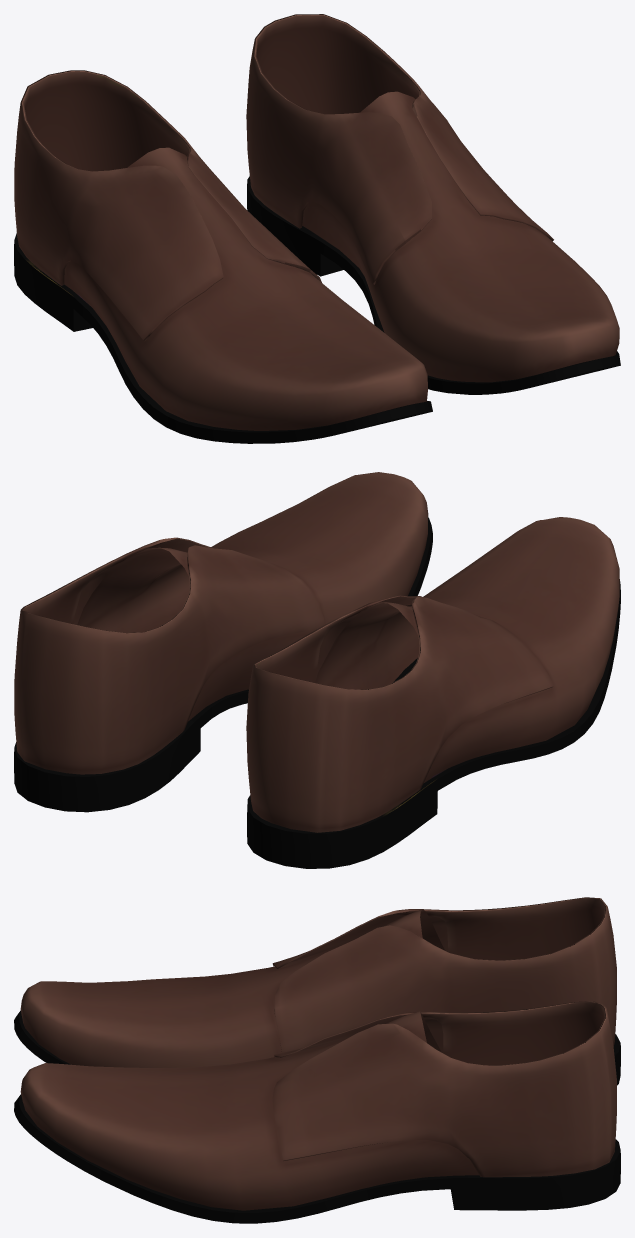
Rendered from FormalShoeM3.fbx.
3 views of the same model, one above another, from view 1: azimuth 30°, elevation 25°; view 2: azimuth 150°, elevation 25°; view 3: azimuth 270°, elevation 25° (orthographic). The views are drawn at different scales.
Parts seen in each view (by area): view 1: FormalShoeM3; view 2: FormalShoeM3; view 3: FormalShoeM3.
Part boxes in pixels (x1,y1,x2,y2): FormalShoeM3: (14, 14, 620, 443); FormalShoeM3: (14, 472, 620, 868); FormalShoeM3: (14, 897, 620, 1223).
Bounding box in the file's own units: 20.97 × 8.7 × 28.51.
